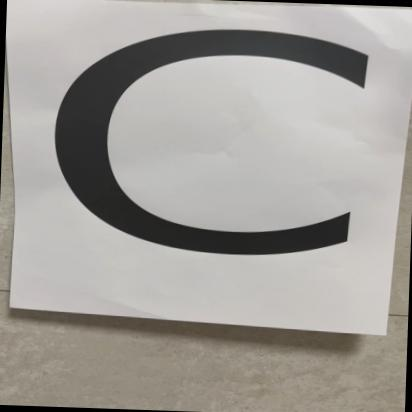seat: (27, 1, 384, 326)
